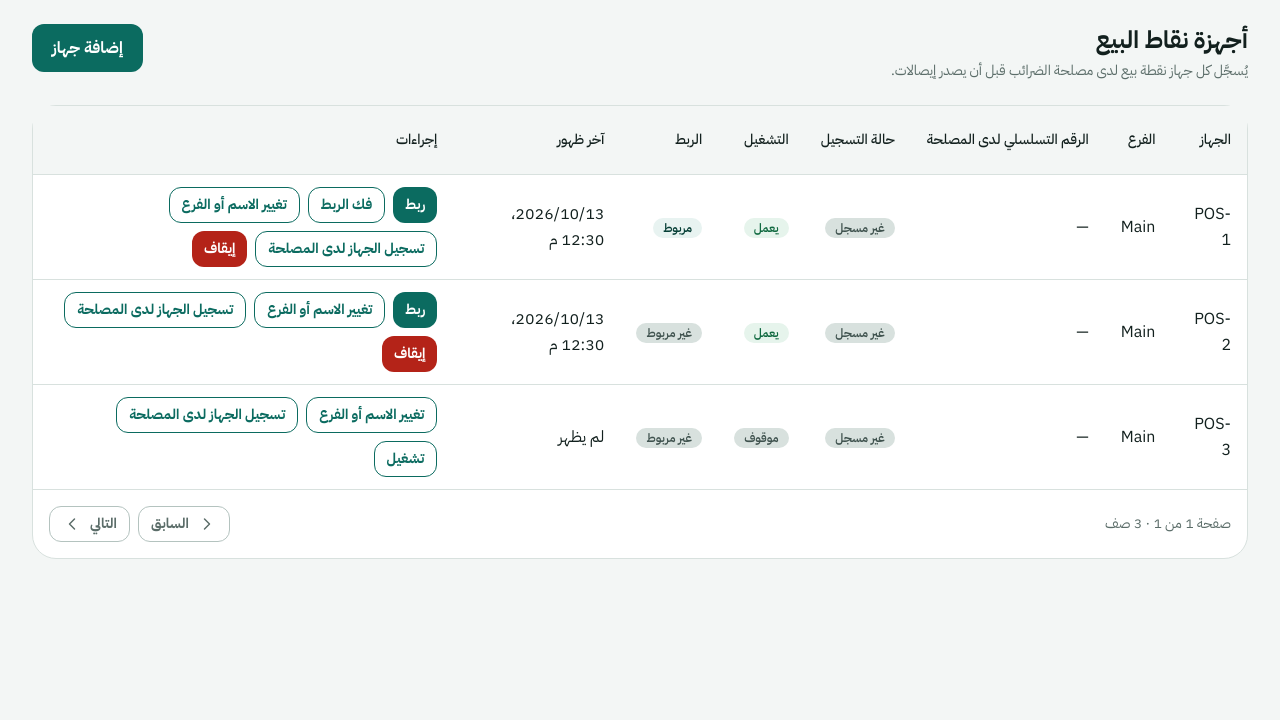
it: O03 POS devices › pairing a paired device warns that its computer is unpaired; a refusal is explained
Click the button "ربط" in the row of "POS-1": (415, 205) [393,187,437,223]
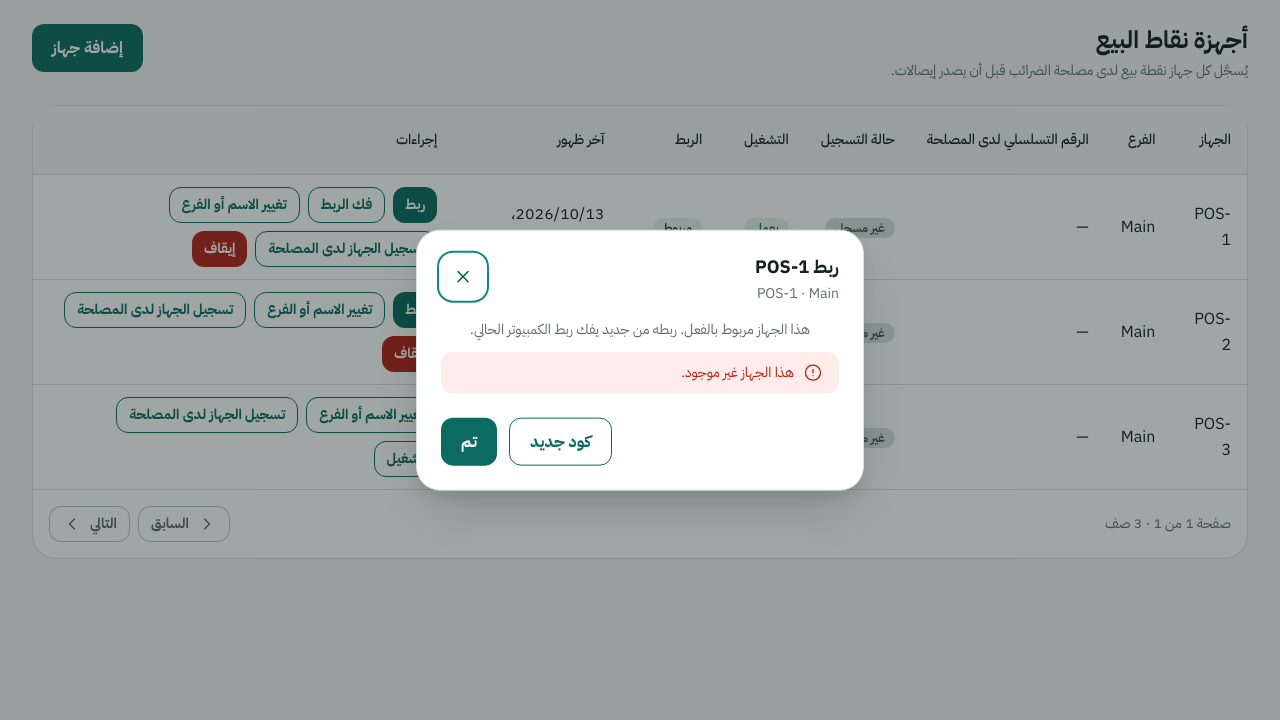
Check: the text "هذا الجهاز مربوط بالفعل. ربطه من جديد يفك ربط الكمبيوتر الحالي." is shown, box [441,319,839,339]
Check: the text "هذا الجهاز غير موجود." is shown, box [681,362,794,382]
